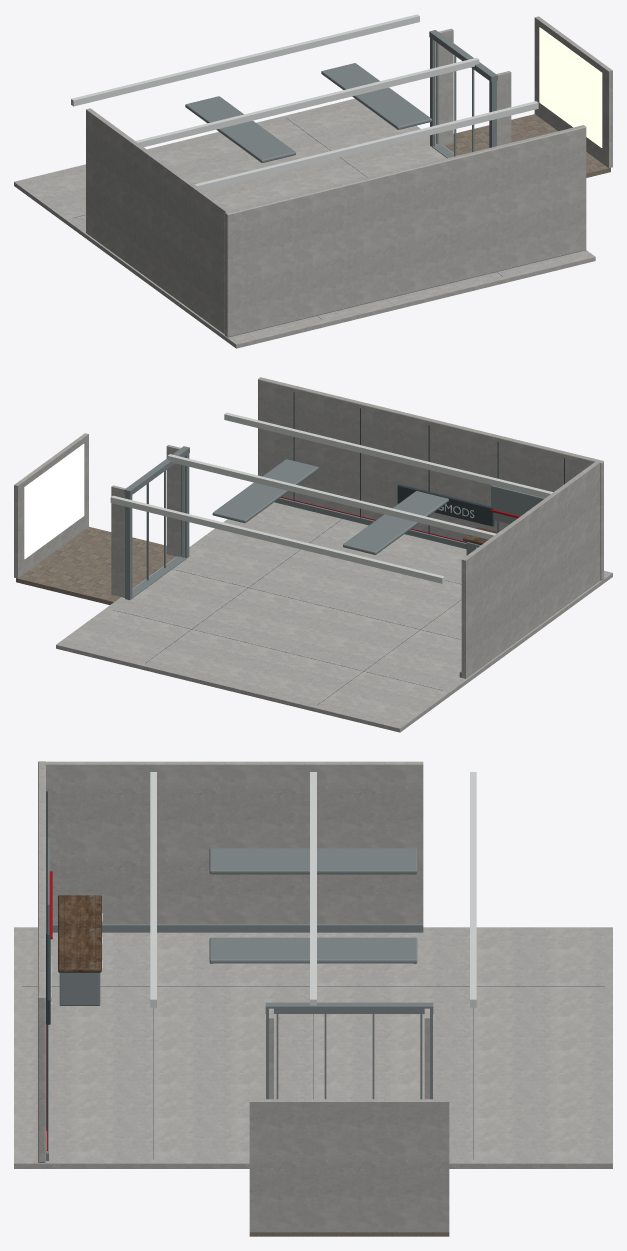
File: bay.glb
The picture shows the model from 3 angles, top to bottom: view 1: azimuth 30°, elevation 25°; view 2: azimuth 150°, elevation 25°; view 3: azimuth 270°, elevation 25°; orthographic projection. The views are drawn at different scales.
Visible parts, largest first — view 1: kit_bay__Quality_Mineral_Stucco, kit_bay__Quality_Showroom_Epoxy, kit_bay__Quality_Painted_White, kit_bay__Quality_Aluminum, kit_bay__Showcase_Practical_Atlas, kit_bay__Quality_Cast_Concrete; view 2: kit_bay__Quality_Showroom_Epoxy, kit_bay__Quality_Mineral_Stucco, kit_bay__Quality_Aluminum, kit_bay__Quality_Painted_White, kit_bay__Quality_Cast_Concrete, kit_bay__Showcase_Practical_Atlas, kit_bay__Quality_Powdercoat; view 3: kit_bay__Quality_Showroom_Epoxy, kit_bay__Quality_Mineral_Stucco, kit_bay__Quality_Aluminum, kit_bay__Quality_Painted_White, kit_bay__Quality_Dock_Timber, kit_bay__Quality_Powdercoat, kit_bay__Quality_Cast_Concrete.
Boxes of the visible parts, x1,y1,x2,y2 form: kit_bay__Quality_Mineral_Stucco: [86, 16, 612, 337]; kit_bay__Quality_Showroom_Epoxy: [14, 98, 595, 348]; kit_bay__Quality_Painted_White: [71, 14, 538, 190]; kit_bay__Quality_Aluminum: [185, 30, 497, 162]; kit_bay__Showcase_Practical_Atlas: [539, 27, 602, 147]; kit_bay__Quality_Cast_Concrete: [443, 114, 610, 177]; kit_bay__Quality_Showroom_Epoxy: [56, 502, 612, 732]; kit_bay__Quality_Mineral_Stucco: [14, 377, 603, 678]; kit_bay__Quality_Aluminum: [124, 446, 544, 677]; kit_bay__Quality_Painted_White: [110, 412, 553, 583]; kit_bay__Quality_Cast_Concrete: [16, 527, 175, 604]; kit_bay__Showcase_Practical_Atlas: [24, 444, 84, 559]; kit_bay__Quality_Powdercoat: [113, 392, 564, 705]; kit_bay__Quality_Showroom_Epoxy: [14, 927, 612, 1168]; kit_bay__Quality_Mineral_Stucco: [38, 761, 449, 1232]; kit_bay__Quality_Aluminum: [46, 838, 433, 1160]; kit_bay__Quality_Painted_White: [51, 772, 476, 1007]; kit_bay__Quality_Dock_Timber: [58, 895, 101, 972]; kit_bay__Quality_Powdercoat: [22, 791, 604, 1158]; kit_bay__Quality_Cast_Concrete: [249, 1232, 449, 1236].
Bounding box in the file's own units: 18.08 × 4.76 × 15.
Materials: 9 (4 with a texture image).
